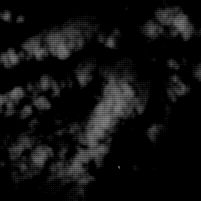dim target: (116, 164, 121, 169)
